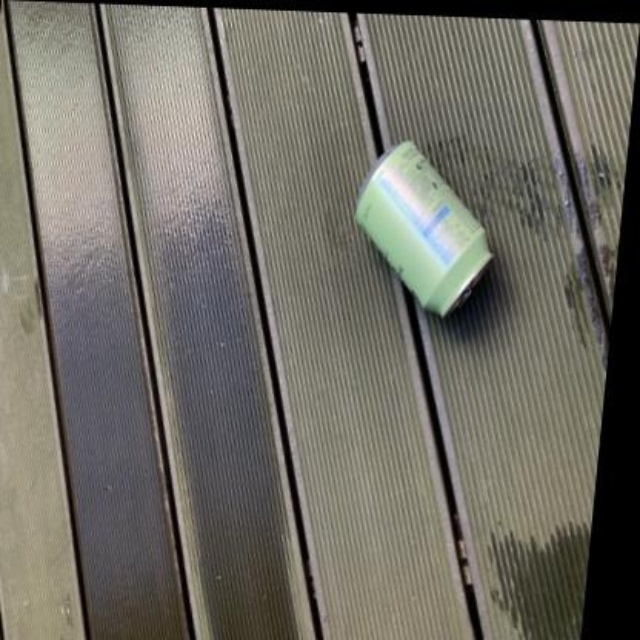trash: (355, 142, 491, 315)
